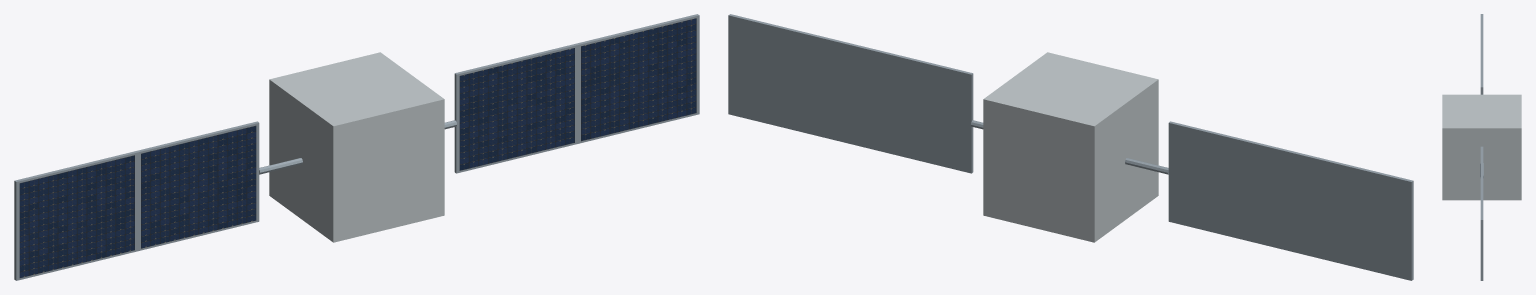
Rendered from ref-fy-1-19467.glb.
3 renders of one model, left to right at view 1: azimuth 30°, elevation 25°; view 2: azimuth 150°, elevation 25°; view 3: azimuth 270°, elevation 25°, orthographic. The views are drawn at different scales.
Visible parts, largest first — view 1: Photovoltaic laminates (×4), Spacecraft body, Array frame (×4); view 2: Array frame (×4), Spacecraft body; view 3: Spacecraft body, Array frame (×4).
Part boxes in pixels (x1,y1,x2,y2): Photovoltaic laminates (×4): (19,18,696,277); Spacecraft body: (269,52,444,242); Array frame (×4): (14,14,699,280); Array frame (×4): (728,14,1413,280); Spacecraft body: (983,52,1158,242); Spacecraft body: (1442,94,1521,200); Array frame (×4): (1480,14,1483,280).
Size of the model in its own units: 8.6 by 1.4 by 1.4.
3 materials, 1 textured.
